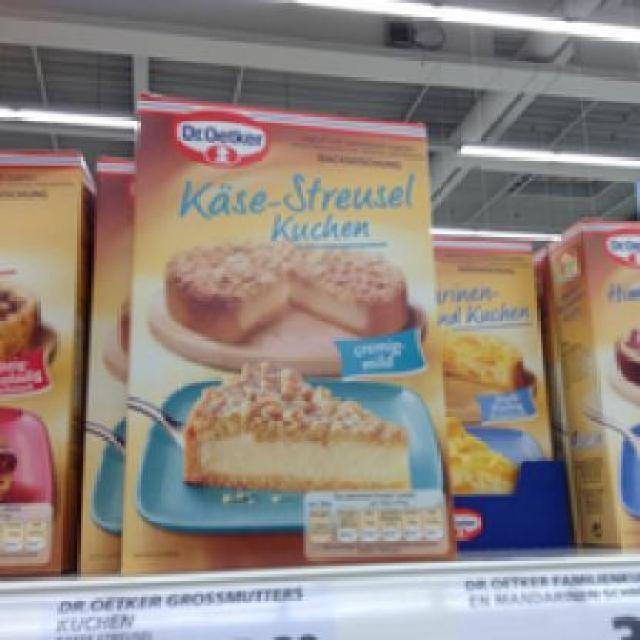Cake: (128, 80, 446, 580)
